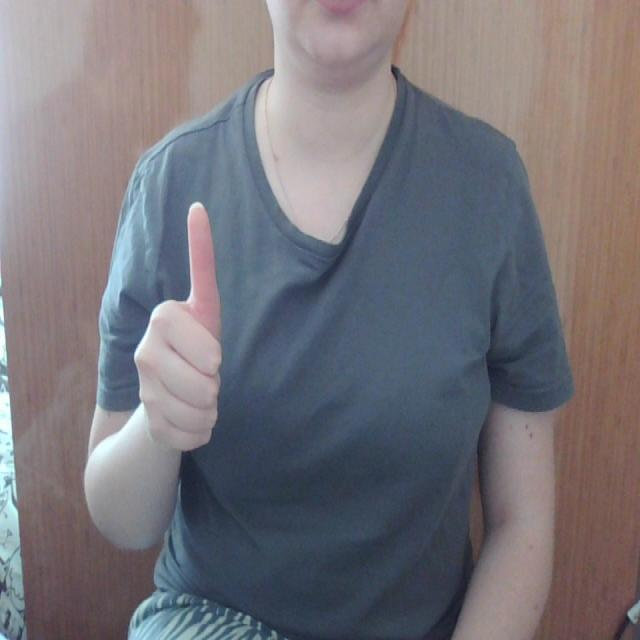Tamam: (132, 197, 229, 459)
